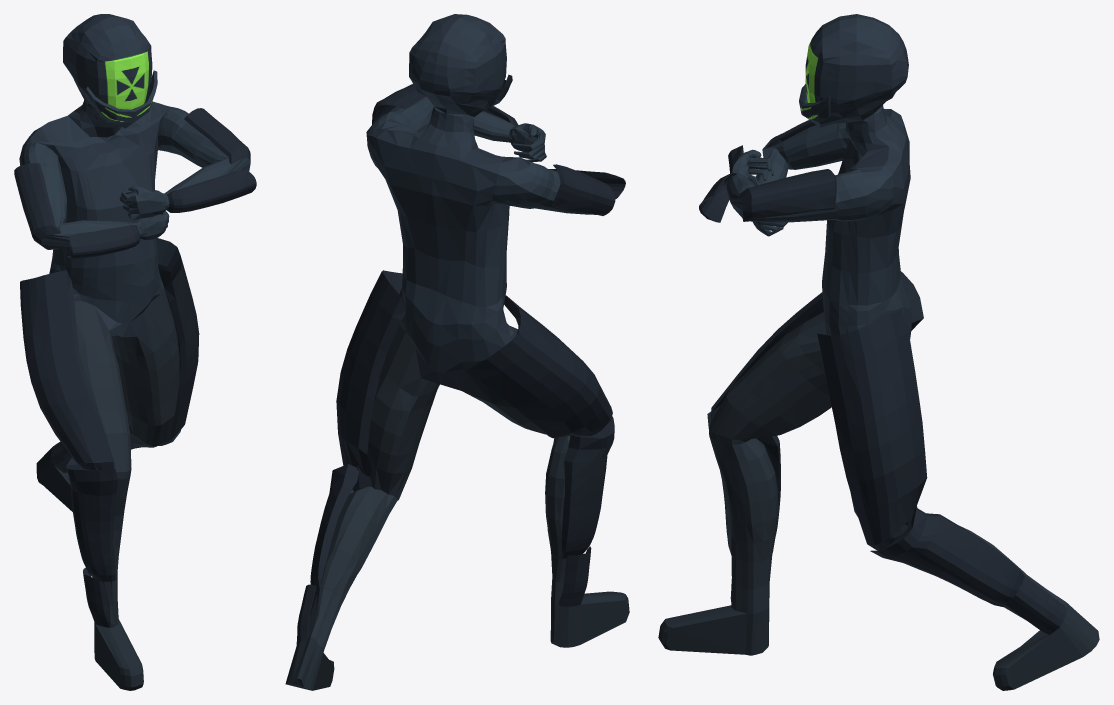
Rendered from Bastion_WL_000017.obj.
The picture shows the model from 3 angles, left to right: view 1: azimuth 30°, elevation 25°; view 2: azimuth 150°, elevation 25°; view 3: azimuth 270°, elevation 25°; orthographic projection. The views are drawn at different scales.
Parts seen in each view (by area): view 1: Cube.002; view 2: Cube.002; view 3: Cube.002.
Boxes of the visible parts, box(x1,y1,x2,y2) form: Cube.002: box(14, 14, 256, 690); Cube.002: box(285, 14, 629, 690); Cube.002: box(658, 14, 1099, 690).
Bounding box in the file's own units: 1.31 × 3.58 × 2.17.
